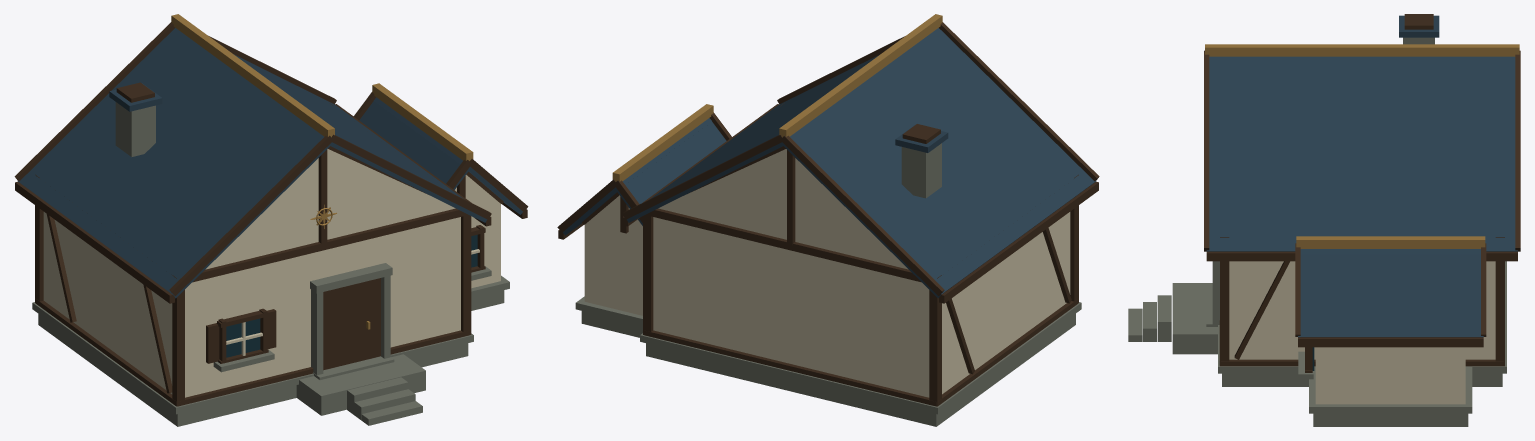
Rendered from House_Workshop_LOD1.fbx.
The picture shows the model from 3 angles, left to right: view 1: azimuth 30°, elevation 25°; view 2: azimuth 150°, elevation 25°; view 3: azimuth 270°, elevation 25°; orthographic projection.
Parts seen in each view (by area): view 1: House_Workshop_Body; view 2: House_Workshop_Body; view 3: House_Workshop_Body.
Part boxes in pixels (x1,y1,x2,y2): House_Workshop_Body: (14,14,528,426); House_Workshop_Body: (557,14,1099,426); House_Workshop_Body: (1128,14,1520,426).
Size of the model in its own units: 11.54 by 7.34 by 9.68.
